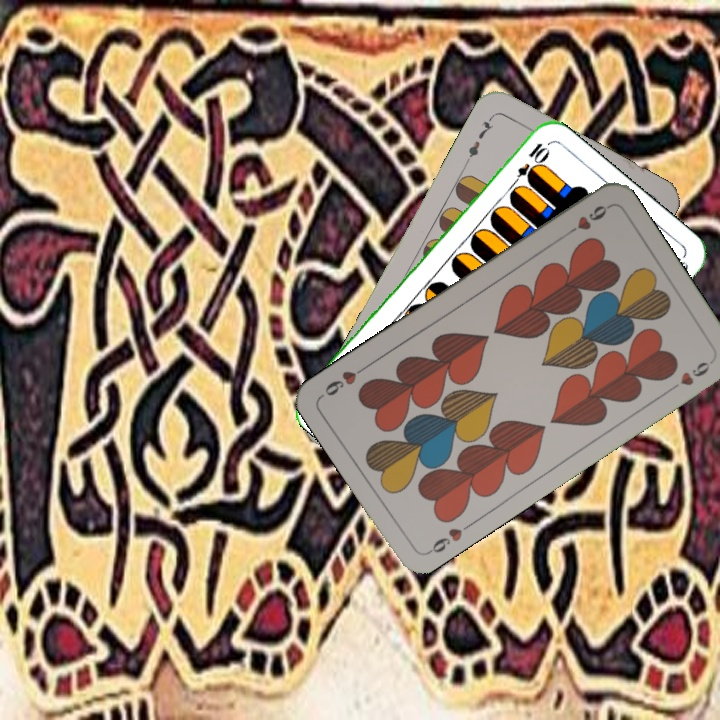E10: (506, 138, 550, 191)
E7: (462, 112, 497, 166)
H9: (559, 201, 612, 239), (422, 519, 475, 557)
